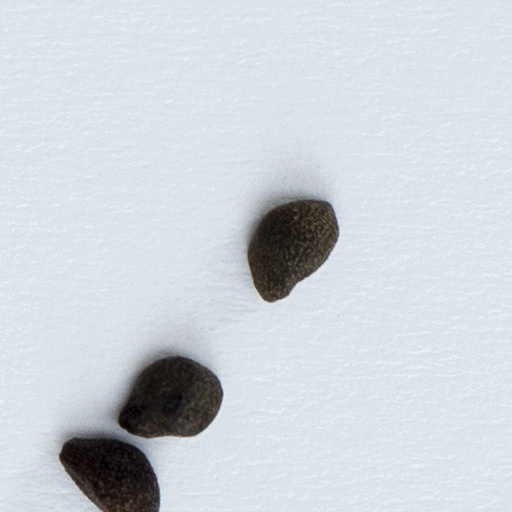Convolvulus-poly: (111, 345, 225, 440), (248, 196, 341, 305), (56, 428, 162, 511)
